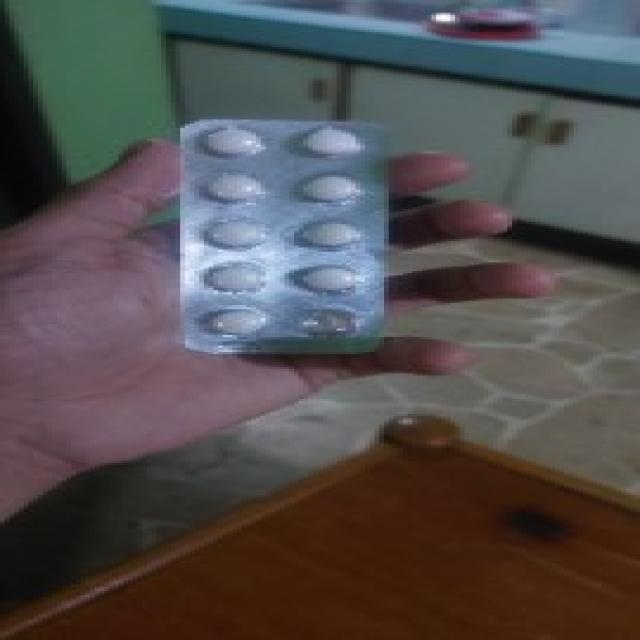Cacat: (180, 119, 398, 358)
Kemasan: (278, 306, 377, 345)
